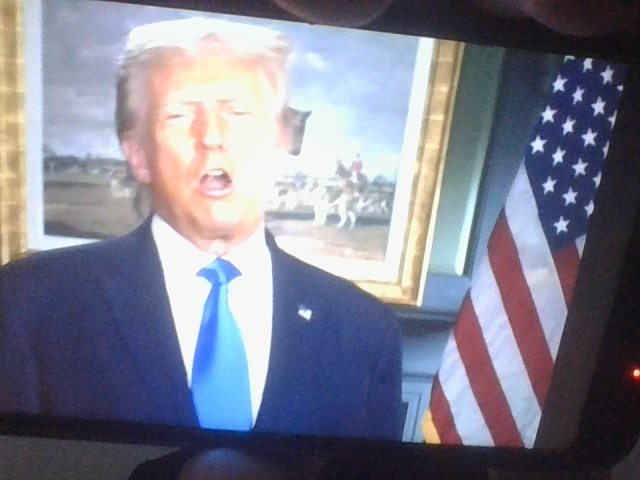fake: (130, 6, 295, 240)
